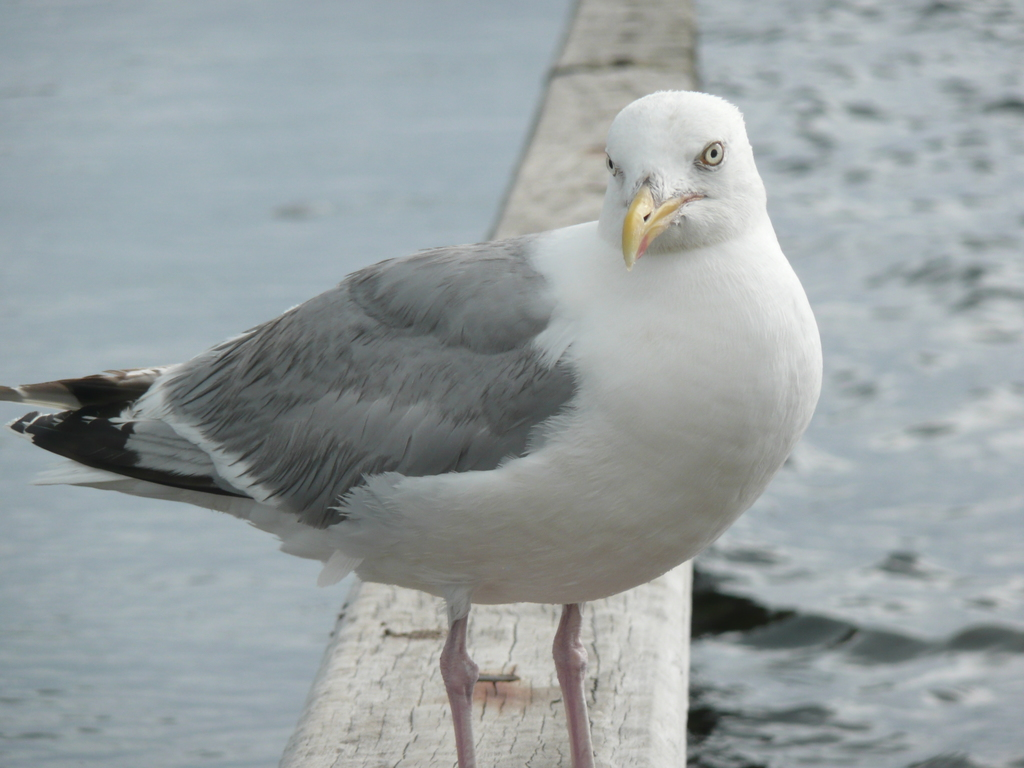Bird: (0, 90, 822, 768)
